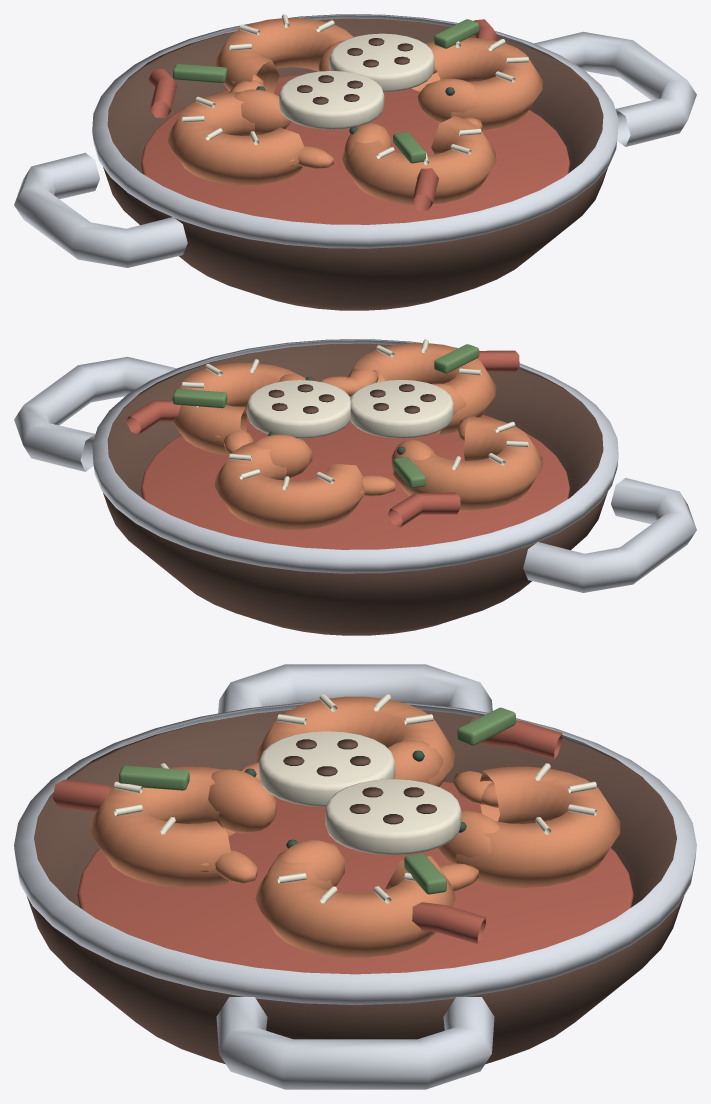
File: option-drypotshrimp.glb
3 views of the same model, one above another, from view 1: azimuth 30°, elevation 25°; view 2: azimuth 150°, elevation 25°; view 3: azimuth 270°, elevation 25° (orthographic). The views are drawn at different scales.
Parts seen in each view (by area): view 1: Model_DryPotShrimp_Patty, Model_DryPotShrimp_Base, Model_DryPotShrimp_Shrimp, Model_DryPotShrimp_Tomato, Model_DryPotShrimp_Rice, Model_DryPotShrimp_Leaf; view 2: Model_DryPotShrimp_Patty, Model_DryPotShrimp_Base, Model_DryPotShrimp_Shrimp, Model_DryPotShrimp_Tomato, Model_DryPotShrimp_Rice, Model_DryPotShrimp_Leaf; view 3: Model_DryPotShrimp_Base, Model_DryPotShrimp_Shrimp, Model_DryPotShrimp_Patty, Model_DryPotShrimp_Tomato, Model_DryPotShrimp_Rice, Model_DryPotShrimp_Leaf.
Boxes of the visible parts, x1,y1,x2,y2 form: Model_DryPotShrimp_Patty: (103, 18, 607, 310); Model_DryPotShrimp_Base: (14, 14, 696, 267); Model_DryPotShrimp_Shrimp: (168, 18, 542, 204); Model_DryPotShrimp_Tomato: (141, 19, 569, 224); Model_DryPotShrimp_Rice: (182, 14, 528, 165); Model_DryPotShrimp_Leaf: (173, 19, 479, 163); Model_DryPotShrimp_Patty: (103, 343, 607, 635); Model_DryPotShrimp_Base: (14, 339, 696, 592); Model_DryPotShrimp_Shrimp: (171, 343, 542, 529); Model_DryPotShrimp_Tomato: (126, 350, 569, 549); Model_DryPotShrimp_Rice: (182, 339, 528, 490); Model_DryPotShrimp_Leaf: (173, 344, 479, 488); Model_DryPotShrimp_Base: (14, 664, 696, 1089); Model_DryPotShrimp_Shrimp: (90, 696, 620, 957); Model_DryPotShrimp_Patty: (27, 710, 683, 1064); Model_DryPotShrimp_Tomato: (52, 715, 633, 974); Model_DryPotShrimp_Rice: (114, 694, 596, 903); Model_DryPotShrimp_Leaf: (119, 707, 515, 894).
Bounding box in the file's own units: 0.9891 × 0.266 × 0.722.
